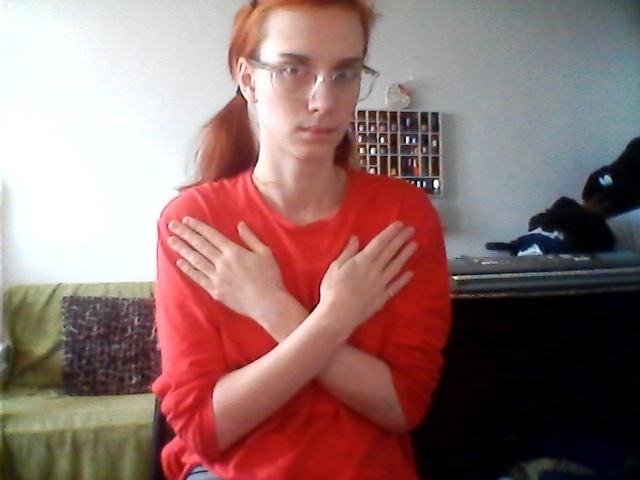z: (164, 208, 428, 448)
